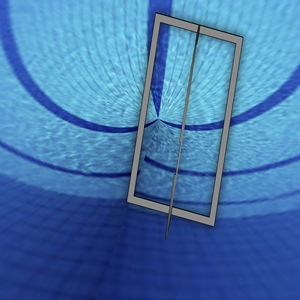circle: (125, 8, 243, 244)
